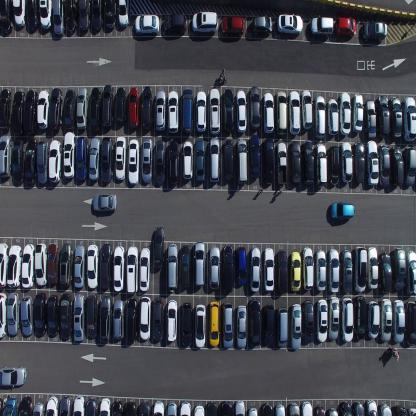car: (23, 89, 38, 136), (7, 244, 22, 289), (24, 136, 38, 184), (191, 10, 218, 34), (378, 251, 393, 294), (402, 96, 416, 142), (0, 365, 28, 388), (99, 295, 112, 344), (73, 292, 86, 341), (11, 90, 25, 135), (392, 247, 406, 292), (340, 297, 354, 342), (99, 242, 112, 290), (60, 292, 73, 340), (376, 94, 390, 138), (49, 87, 63, 131), (11, 139, 25, 183), (63, 131, 76, 178), (389, 96, 403, 139), (48, 139, 62, 182), (263, 136, 275, 186), (288, 90, 301, 136), (125, 298, 138, 344), (21, 242, 34, 288), (276, 12, 303, 34), (222, 244, 234, 293), (390, 144, 404, 186), (249, 298, 261, 347), (126, 244, 138, 293), (366, 141, 379, 186), (75, 136, 88, 181), (327, 248, 340, 293), (262, 302, 275, 347), (60, 242, 73, 287), (34, 291, 47, 336), (222, 86, 234, 134), (275, 89, 287, 137), (128, 138, 140, 186), (101, 135, 113, 183), (113, 244, 125, 292), (86, 292, 98, 340), (309, 15, 334, 38), (402, 146, 416, 187), (361, 21, 387, 43), (379, 298, 392, 342), (34, 242, 47, 286), (7, 292, 20, 336), (222, 301, 234, 348), (354, 245, 366, 292), (290, 303, 302, 350), (154, 138, 166, 184), (168, 139, 180, 185), (181, 301, 193, 347), (208, 300, 220, 346), (193, 241, 205, 287), (303, 139, 315, 185), (276, 140, 288, 186), (249, 133, 261, 179), (89, 87, 101, 133), (404, 300, 416, 346), (354, 295, 366, 341), (87, 244, 99, 290), (340, 141, 353, 183), (134, 14, 160, 35), (21, 294, 34, 336), (314, 94, 326, 139), (315, 142, 327, 187), (289, 140, 301, 185), (101, 83, 113, 128), (366, 245, 378, 290), (263, 247, 275, 292), (327, 296, 339, 341), (139, 296, 151, 341), (167, 243, 178, 292), (182, 88, 193, 136), (209, 245, 221, 289), (209, 87, 220, 135), (236, 137, 247, 185), (166, 298, 178, 342), (339, 92, 351, 136), (378, 143, 390, 187), (353, 140, 365, 184), (88, 137, 100, 181), (0, 87, 12, 131), (37, 140, 49, 184), (340, 249, 352, 293), (302, 246, 314, 290), (392, 299, 404, 343), (316, 298, 328, 342), (302, 300, 314, 344), (46, 241, 58, 285), (36, 90, 49, 130), (405, 249, 416, 296), (180, 243, 192, 286), (263, 91, 275, 134), (76, 86, 88, 129), (64, 89, 76, 132), (142, 138, 153, 184), (139, 246, 150, 292), (301, 89, 313, 131), (195, 303, 206, 348), (236, 304, 247, 349), (115, 136, 126, 181), (0, 134, 11, 179), (364, 99, 376, 140), (276, 306, 288, 347), (167, 90, 178, 134), (194, 138, 205, 182), (153, 226, 164, 270), (153, 297, 164, 341), (249, 86, 260, 130), (74, 244, 85, 288), (48, 293, 59, 337), (209, 136, 219, 184), (352, 93, 364, 133), (367, 300, 379, 340), (0, 0, 14, 34), (92, 192, 117, 211), (195, 90, 206, 133), (155, 89, 166, 132), (327, 97, 339, 136), (328, 144, 339, 186), (315, 249, 326, 291), (113, 298, 124, 340), (221, 16, 244, 36), (277, 249, 287, 295), (330, 200, 354, 219), (115, 86, 127, 124), (163, 13, 187, 32), (128, 87, 139, 128), (290, 251, 301, 292), (142, 86, 152, 131), (38, 0, 53, 30), (250, 246, 260, 291), (182, 140, 193, 180), (236, 246, 247, 286), (236, 89, 246, 132), (223, 138, 233, 180), (53, 0, 65, 35), (335, 17, 357, 36), (65, 0, 77, 34), (78, 0, 91, 31), (252, 14, 272, 34), (104, 0, 117, 30), (91, 0, 103, 32), (12, 0, 26, 27), (117, 0, 130, 29), (0, 242, 8, 288), (26, 0, 38, 30), (0, 291, 7, 340), (18, 395, 33, 415), (59, 394, 72, 416), (3, 396, 18, 415), (45, 396, 58, 415), (73, 395, 85, 415), (85, 398, 98, 416), (364, 400, 378, 416), (99, 397, 111, 415), (110, 398, 122, 416), (152, 400, 165, 416), (234, 398, 245, 416), (124, 400, 136, 416), (220, 400, 232, 416), (260, 402, 273, 416), (179, 400, 191, 415), (206, 400, 217, 416), (32, 401, 44, 415), (139, 402, 151, 416), (288, 402, 300, 416), (301, 401, 313, 415), (340, 401, 352, 415), (352, 401, 364, 415), (379, 403, 392, 415), (393, 404, 407, 415), (167, 402, 177, 415), (275, 403, 285, 415), (194, 404, 204, 415), (247, 406, 258, 416), (315, 404, 325, 415), (328, 406, 338, 416), (0, 397, 4, 415), (408, 407, 416, 415)
